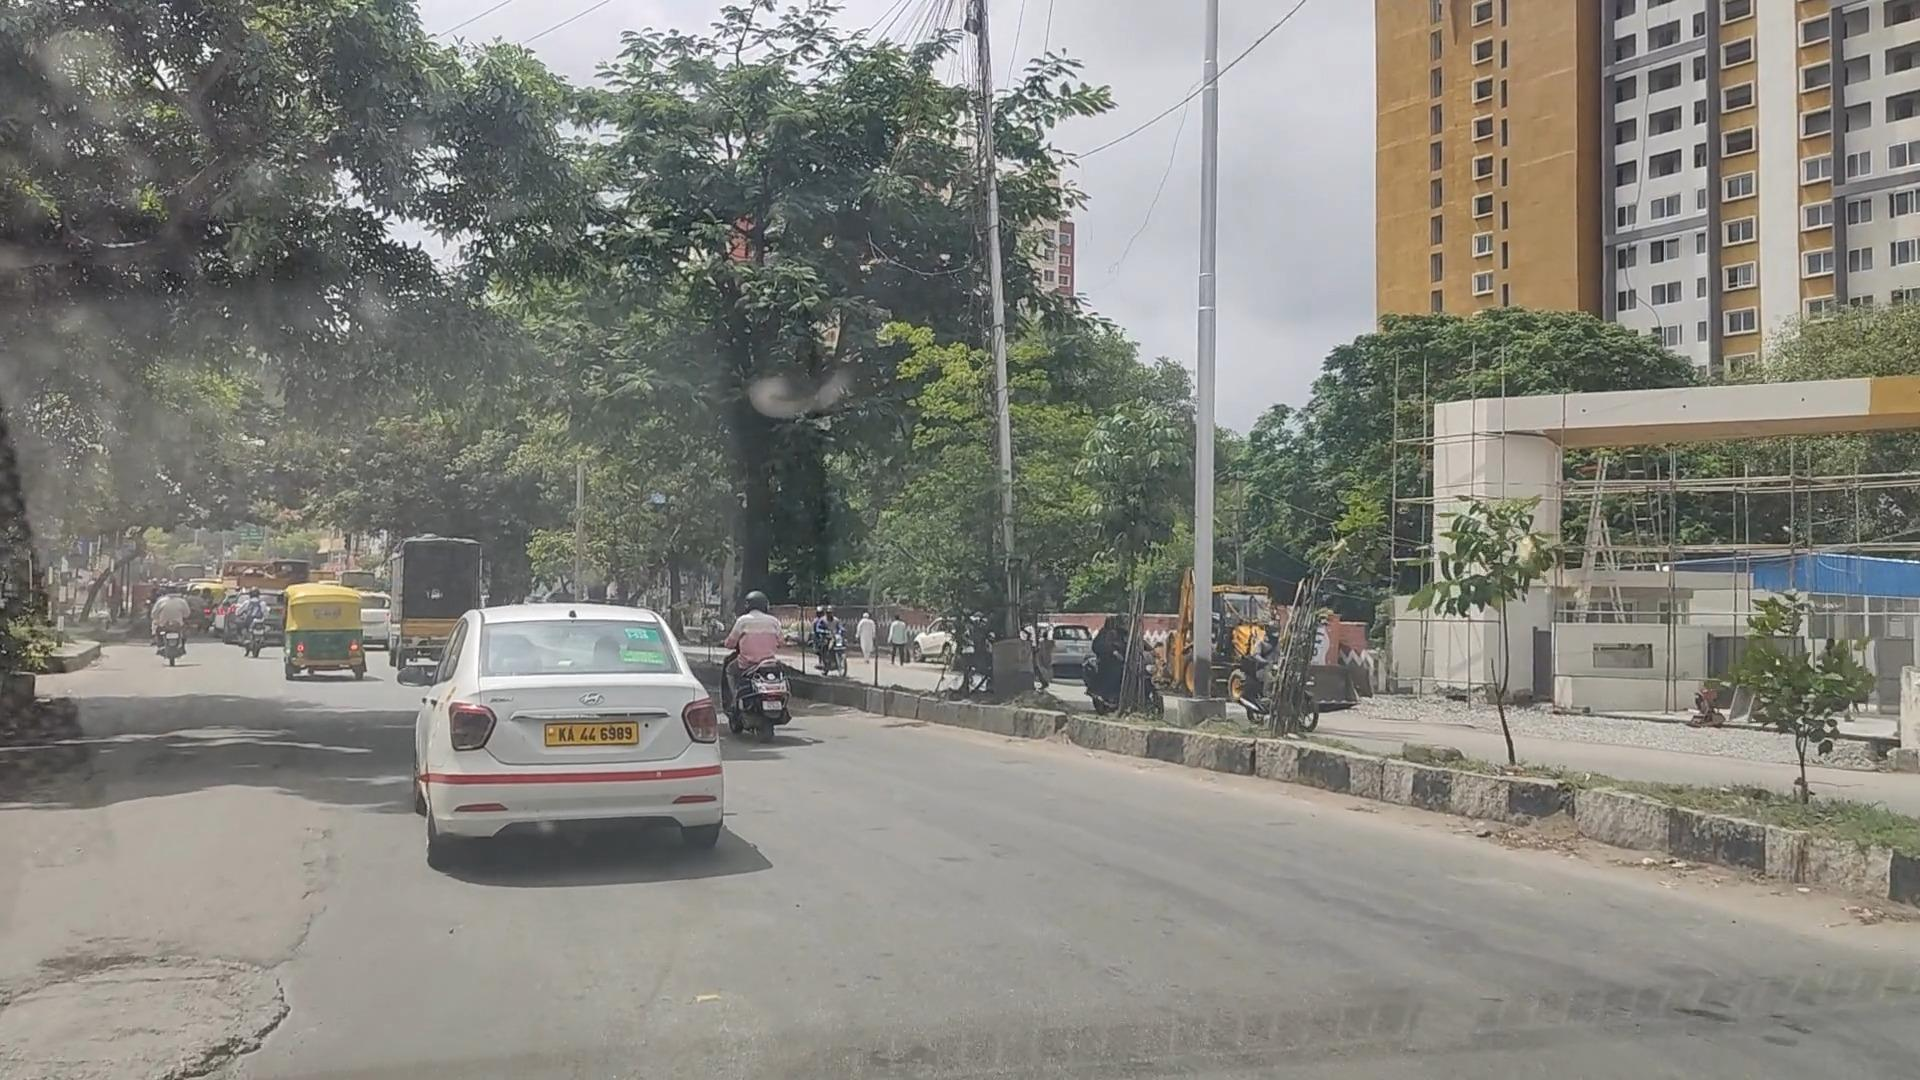LMV: (430, 615, 733, 886), (719, 579, 791, 746)
RoadDamages: (29, 936, 297, 1080)
